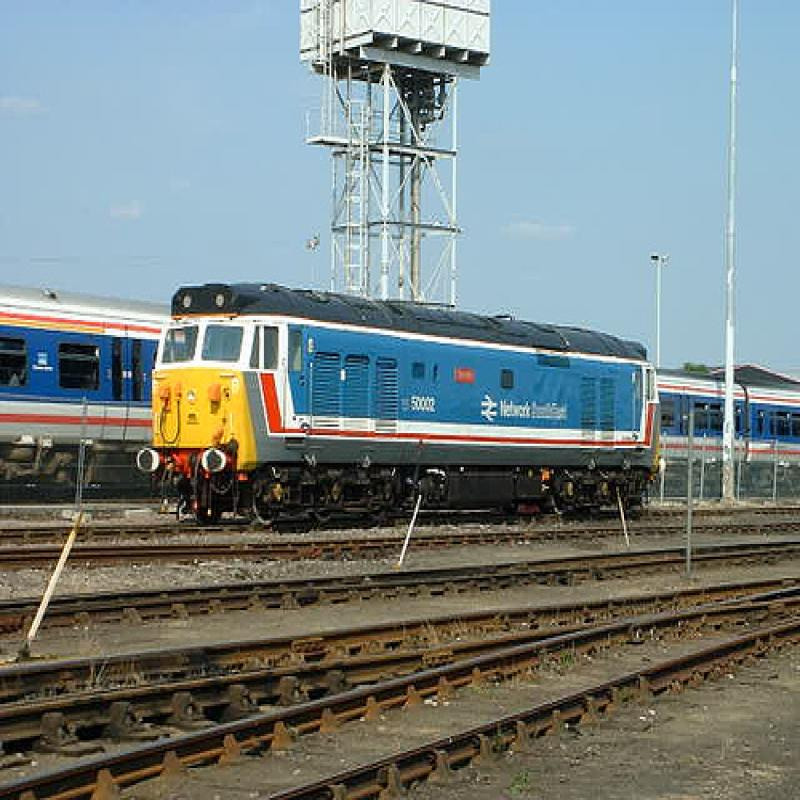train: (1, 288, 799, 502), (136, 278, 661, 528)
